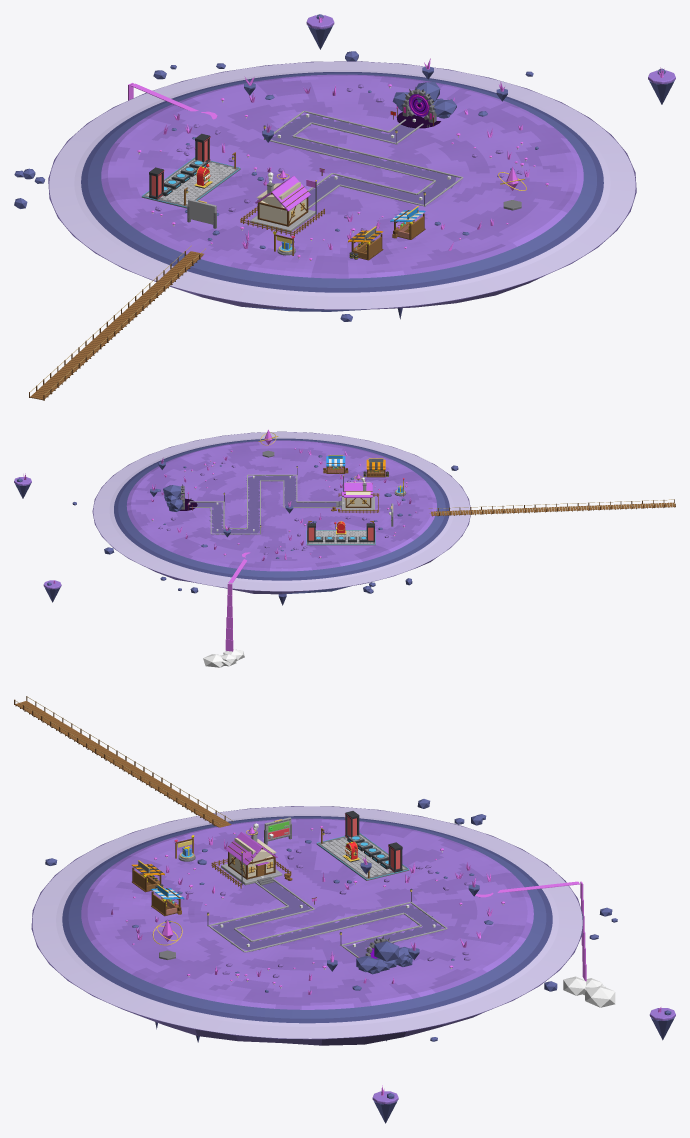
Rendered from Isla6_Cristal.glb.
3 views of the same model, one above another, from view 1: azimuth 30°, elevation 25°; view 2: azimuth 150°, elevation 25°; view 3: azimuth 270°, elevation 25° (orthographic). The views are drawn at different scales.
Visible parts, largest first — view 1: Isla6_Cristal_Terreno, Isla6_Cristal_Casa, Isla6_Cristal_Palanca_Zona, Isla6_Cristal_Base_Flotante, Isla6_Cristal_Portal, Isla6_Cristal_Equipamientos_Puesto, Isla6_Cristal_Tienda_Puesto, Isla6_Cristal_Mejoras_Marco, Isla6_Cristal_Detalles_11, Isla6_Cristal_Detalles_12; view 2: Isla6_Cristal_Terreno, Isla6_Cristal_Casa, Isla6_Cristal_Base_Flotante, Isla6_Cristal_Palanca_Zona, Isla6_Cristal_Portal, Isla6_Cristal_Detalles_7, Isla6_Cristal_Detalles_6, Isla6_Cristal_Equipamientos_Puesto, Isla6_Cristal_Tienda_Puesto; view 3: Isla6_Cristal_Terreno, Isla6_Cristal_Base_Flotante, Isla6_Cristal_Casa, Isla6_Cristal_Palanca_Zona, Isla6_Cristal_Portal, Isla6_Cristal_Detalles_6, Isla6_Cristal_Detalles_7, Isla6_Cristal_Tienda_Puesto, Isla6_Cristal_Equipamientos_Puesto.
Boxes of the visible parts, box(x1,y1,x2,y2) form: Isla6_Cristal_Terreno: box(49, 61, 635, 309); Isla6_Cristal_Casa: box(240, 170, 324, 236); Isla6_Cristal_Palanca_Zona: box(141, 133, 240, 208); Isla6_Cristal_Base_Flotante: box(48, 61, 636, 311); Isla6_Cristal_Portal: box(392, 82, 456, 128); Isla6_Cristal_Equipamientos_Puesto: box(348, 226, 383, 260); Isla6_Cristal_Tienda_Puesto: box(390, 206, 425, 239); Isla6_Cristal_Mejoras_Marco: box(187, 199, 216, 228); Isla6_Cristal_Detalles_11: box(648, 67, 675, 104); Isla6_Cristal_Detalles_12: box(306, 15, 334, 49); Isla6_Cristal_Terreno: box(93, 432, 470, 591); Isla6_Cristal_Casa: box(336, 474, 379, 513); Isla6_Cristal_Base_Flotante: box(92, 431, 471, 594); Isla6_Cristal_Palanca_Zona: box(306, 521, 375, 545); Isla6_Cristal_Portal: box(163, 484, 197, 511); Isla6_Cristal_Detalles_7: box(203, 628, 237, 667); Isla6_Cristal_Detalles_6: box(223, 559, 246, 660); Isla6_Cristal_Equipamientos_Puesto: box(363, 458, 388, 477); Isla6_Cristal_Tienda_Puesto: box(323, 455, 348, 473); Isla6_Cristal_Terreno: box(32, 806, 582, 1038); Isla6_Cristal_Base_Flotante: box(31, 806, 583, 1045); Isla6_Cristal_Casa: box(211, 823, 291, 888); Isla6_Cristal_Palanca_Zona: box(316, 811, 409, 880); Isla6_Cristal_Portal: box(356, 936, 412, 974); Isla6_Cristal_Detalles_6: box(497, 881, 586, 995); Isla6_Cristal_Detalles_7: box(582, 947, 615, 1007); Isla6_Cristal_Tienda_Puesto: box(151, 884, 184, 916); Isla6_Cristal_Equipamientos_Puesto: box(131, 860, 164, 892).
Bounding box in the file's own units: 231 × 45.71 × 168.
Materials: 1 (1 with a texture image).
